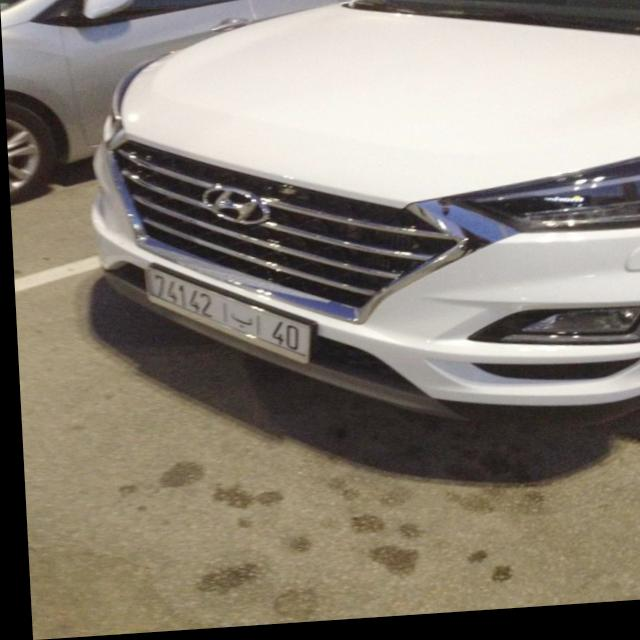License-Plate: (141, 271, 307, 367)
